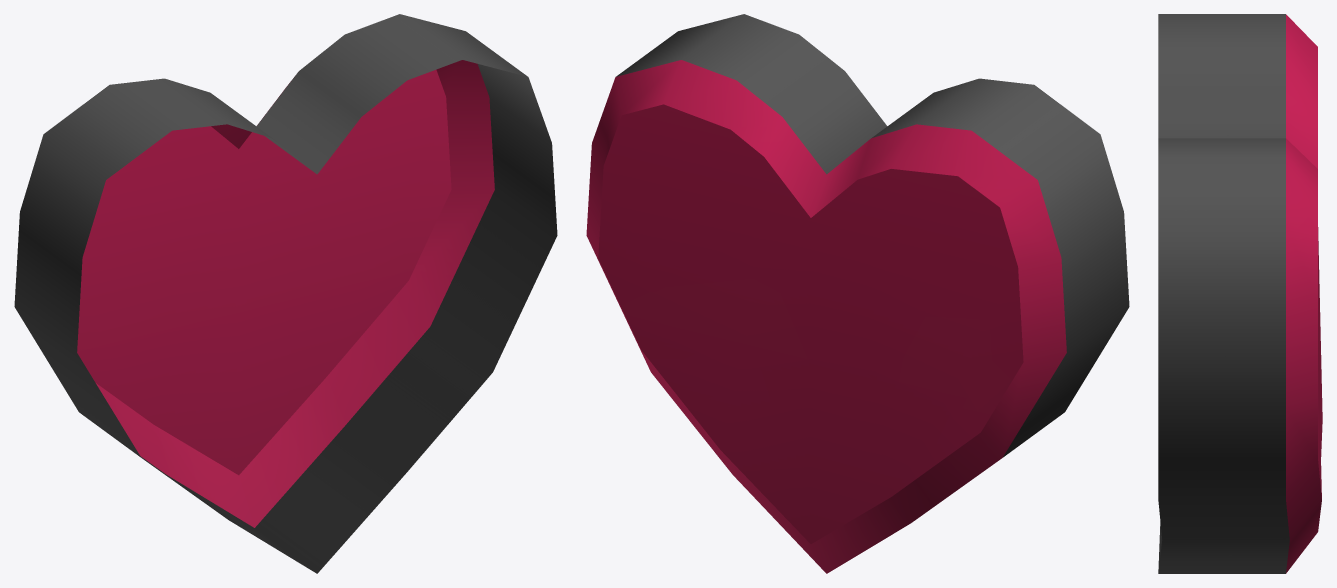
Rendered from part_Boxer_Heart1.fbx.
The picture shows the model from 3 angles, left to right: view 1: azimuth 30°, elevation 25°; view 2: azimuth 150°, elevation 25°; view 3: azimuth 270°, elevation 25°; orthographic projection.
Visible parts, largest first — view 1: sm_Boxer_Heart; view 2: sm_Boxer_Heart; view 3: sm_Boxer_Heart.
Boxes of the visible parts, x1=… form: sm_Boxer_Heart: x1=14, y1=14, x2=557, y2=573; sm_Boxer_Heart: x1=586, y1=14, x2=1129, y2=573; sm_Boxer_Heart: x1=1158, y1=14, x2=1322, y2=573.
Bounding box in the file's own units: 9.21 × 8.77 × 2.68.
